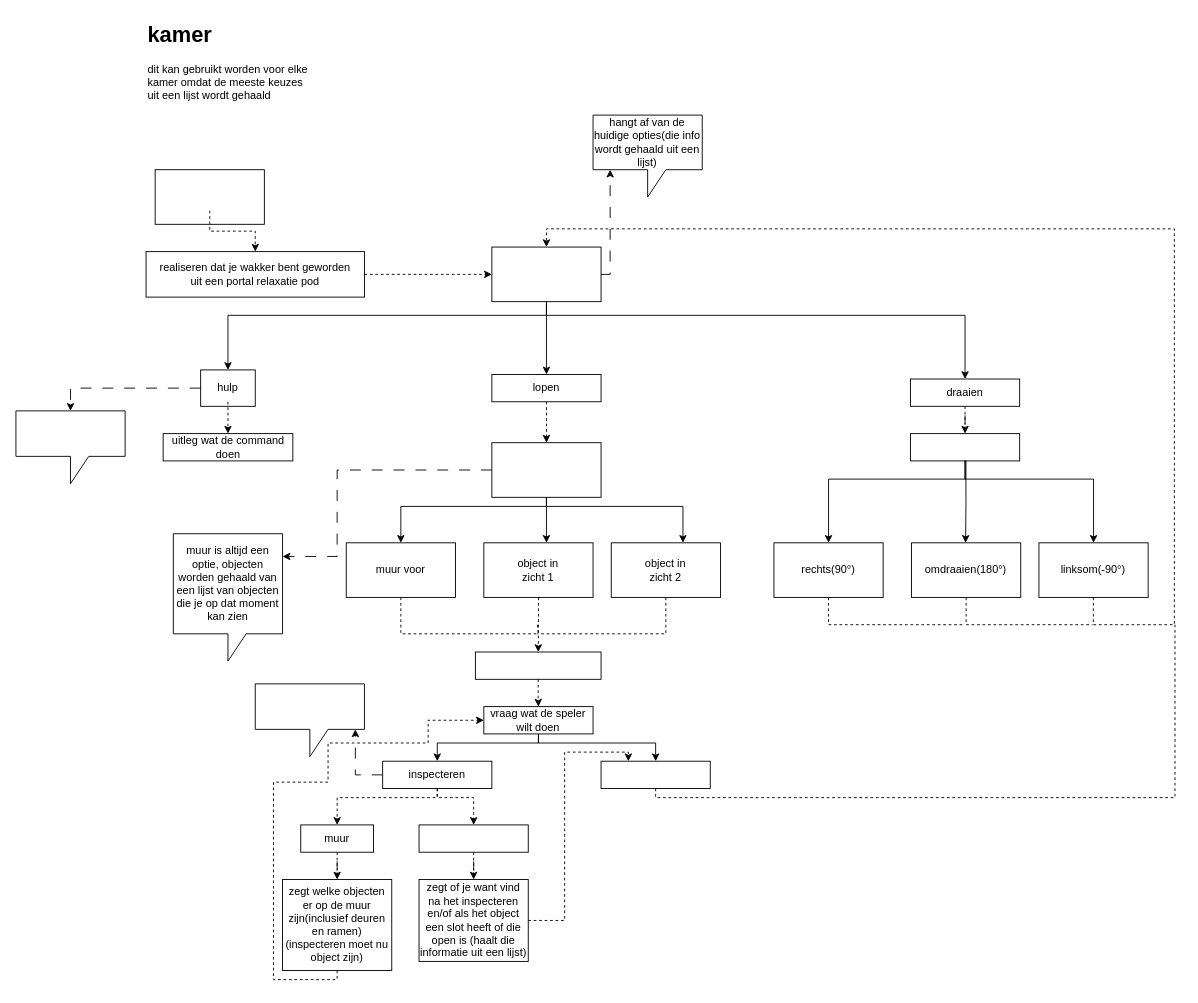
This 1198x1003 diagram has some shape labels left out. Here are the shapes that lost their labels. From the top down, the centre of each, then its label:
At [209,196]: "wakker worden".
At [546,274]: "user input".
At [70,447]: "altijd een keuze".
At [965,447]: "vraag hoe ver".
At [546,469]: "vraag welke kant op".
At [537,665]: "loopt naar object/muur".
At [309,720]: "keuze wordt gemaakt door spel, hangt af van waar je voor staat".
At [655,774]: "terug lopen".
At [473,838]: "object".
